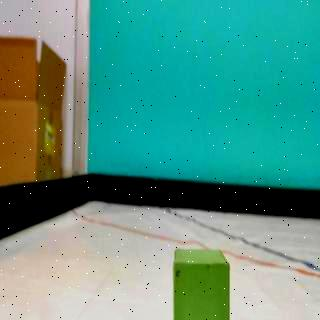greenbox: (173, 248, 231, 320)
